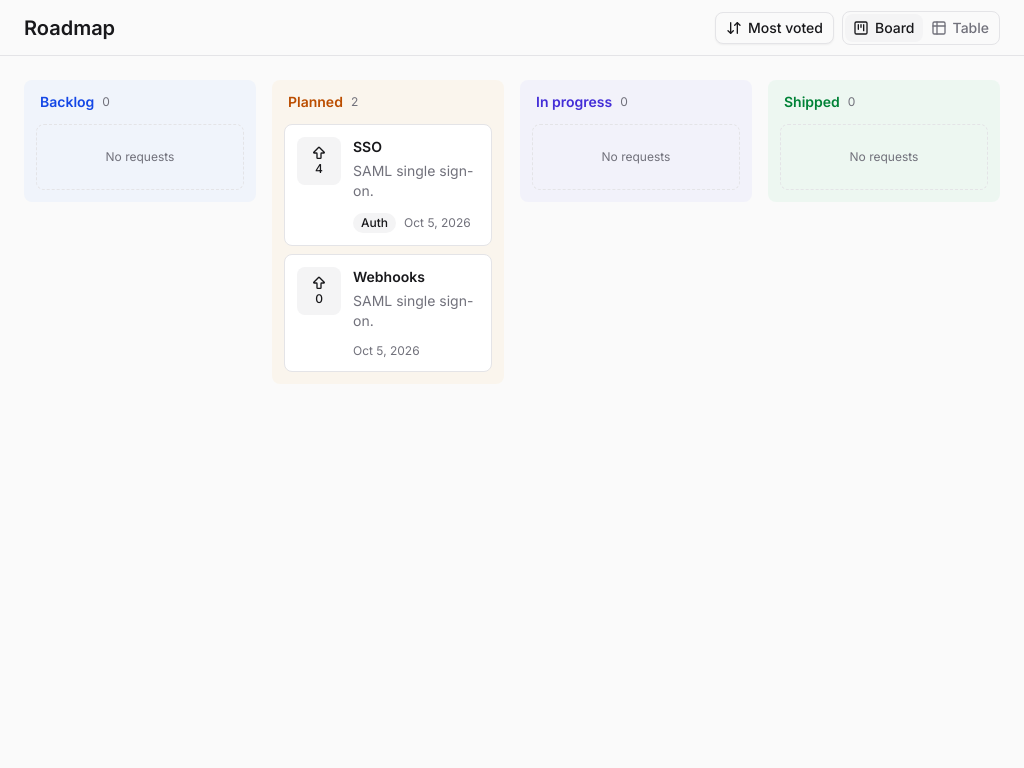
Test: changes the status straight away
The width and height of the screenshot is (1024, 768).
What coordinates should you click on to do the following:
click the button "SSO"
I would click on:
 (388, 185)
Its box is x1=284 y1=124 x2=492 y2=246.
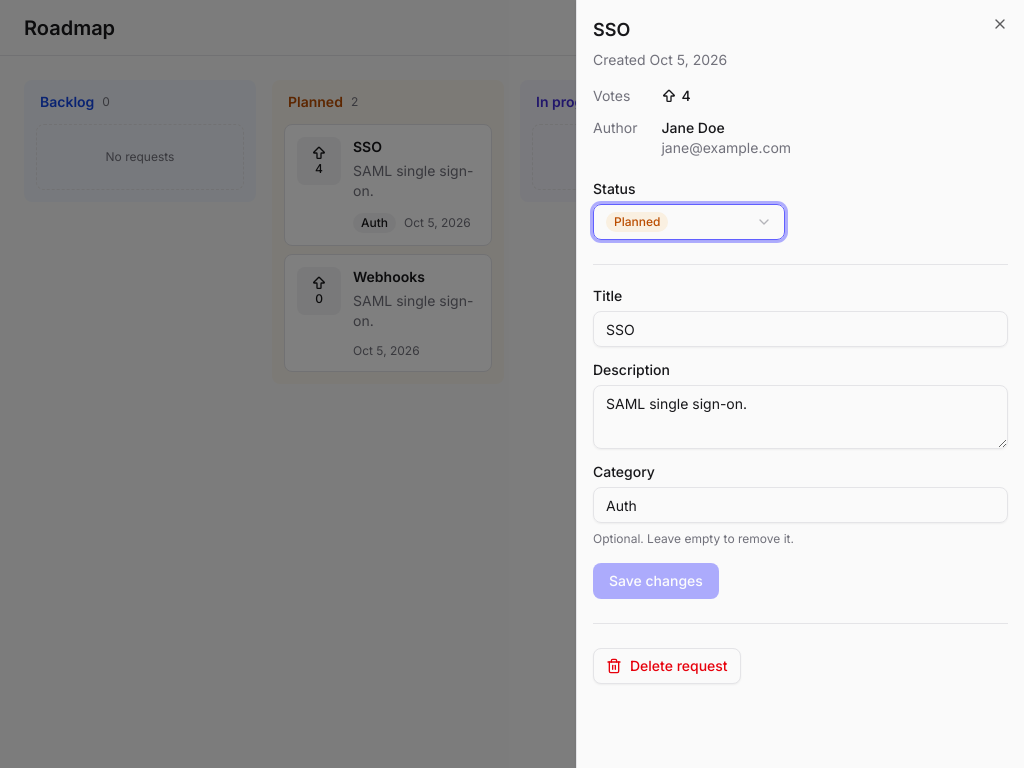
What coordinates should you click on to do the following:
click the dropdown named "Status"
I would click on:
 (689, 222)
Its box is x1=593 y1=204 x2=785 y2=240.
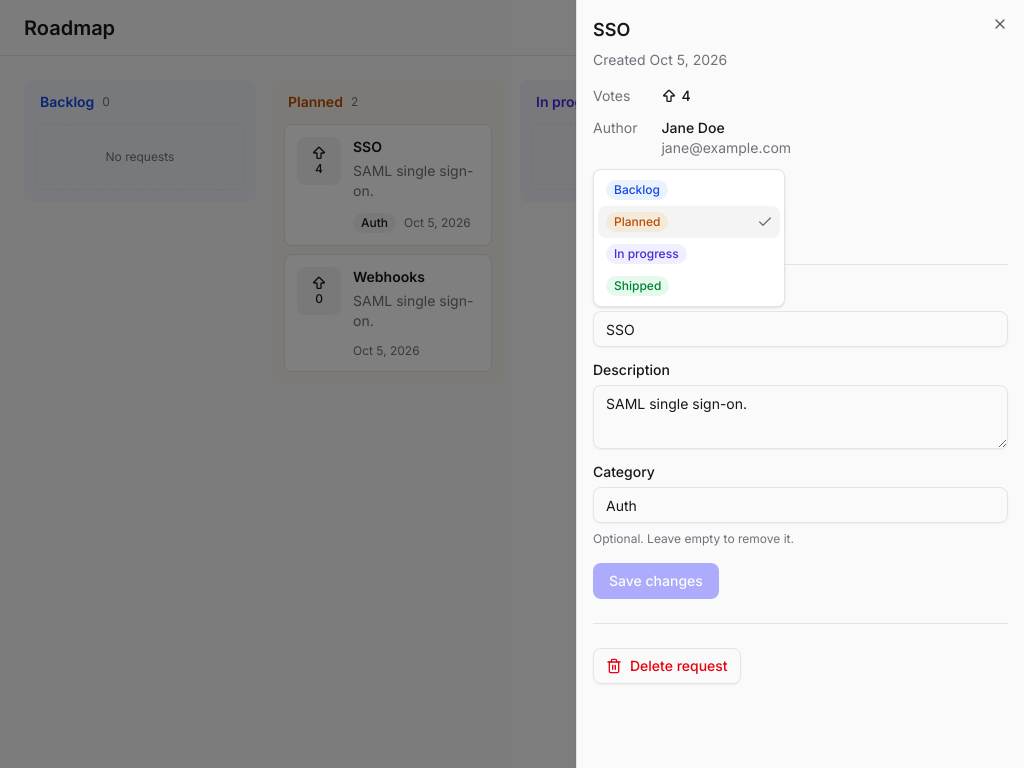
What coordinates should you click on to do the following:
click the option "Shipped"
I would click on:
 (638, 286)
Its box is x1=606 y1=276 x2=669 y2=296.
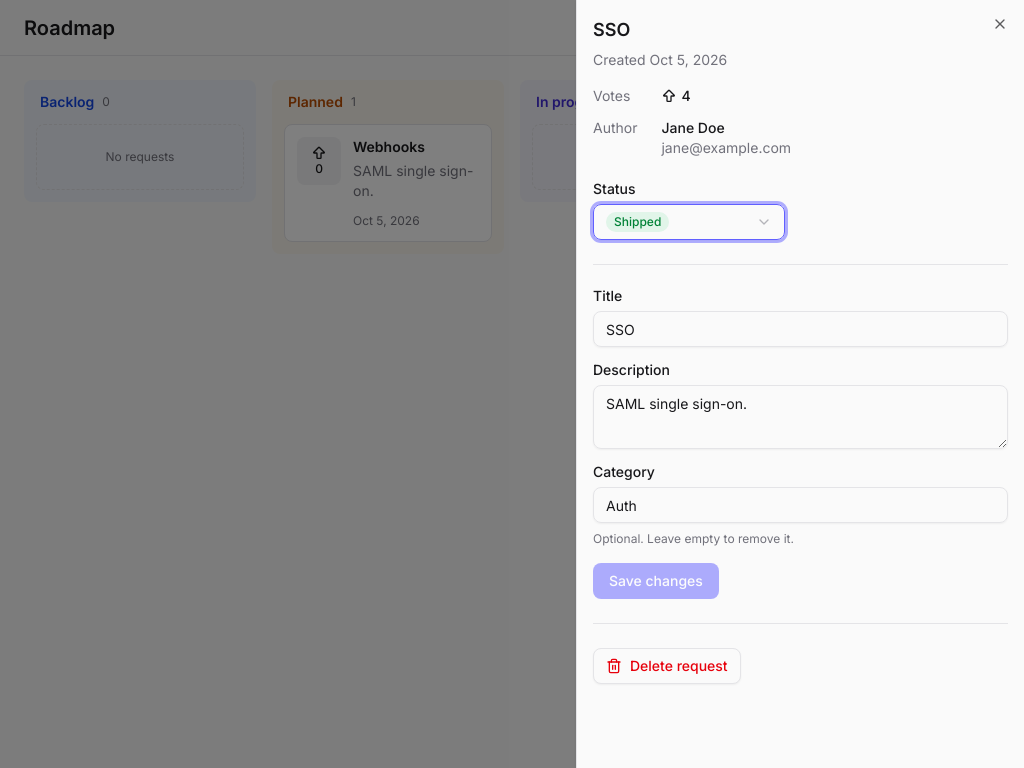
expect the dropdown named "Status" reads "Shipped": met, box x1=593 y1=204 x2=785 y2=240
